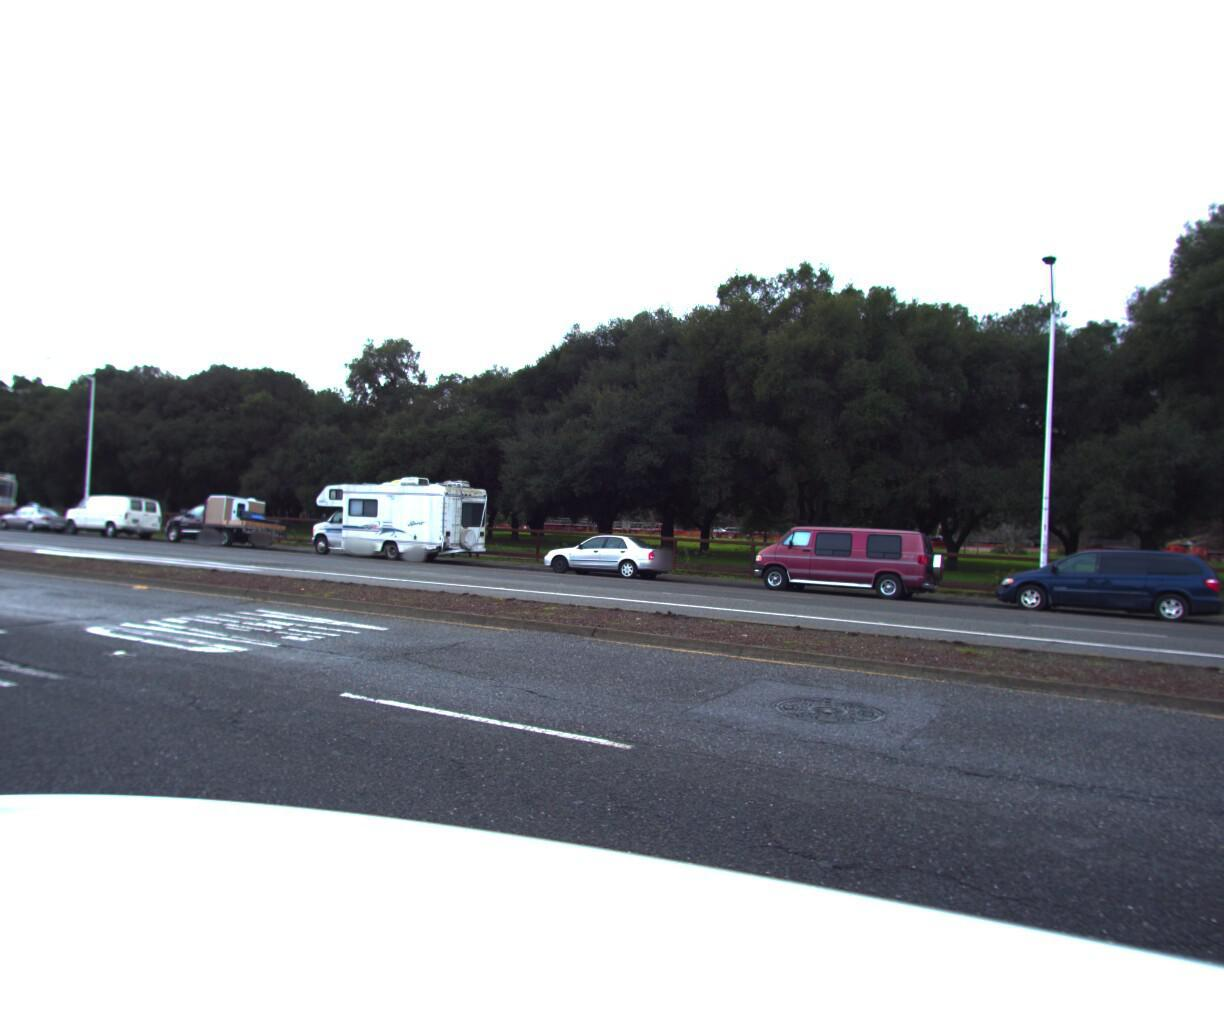car: (982, 542, 1224, 625), (742, 522, 953, 611), (157, 492, 294, 553), (536, 534, 678, 587), (59, 492, 168, 545)
other_vehicle: (297, 472, 499, 569)
